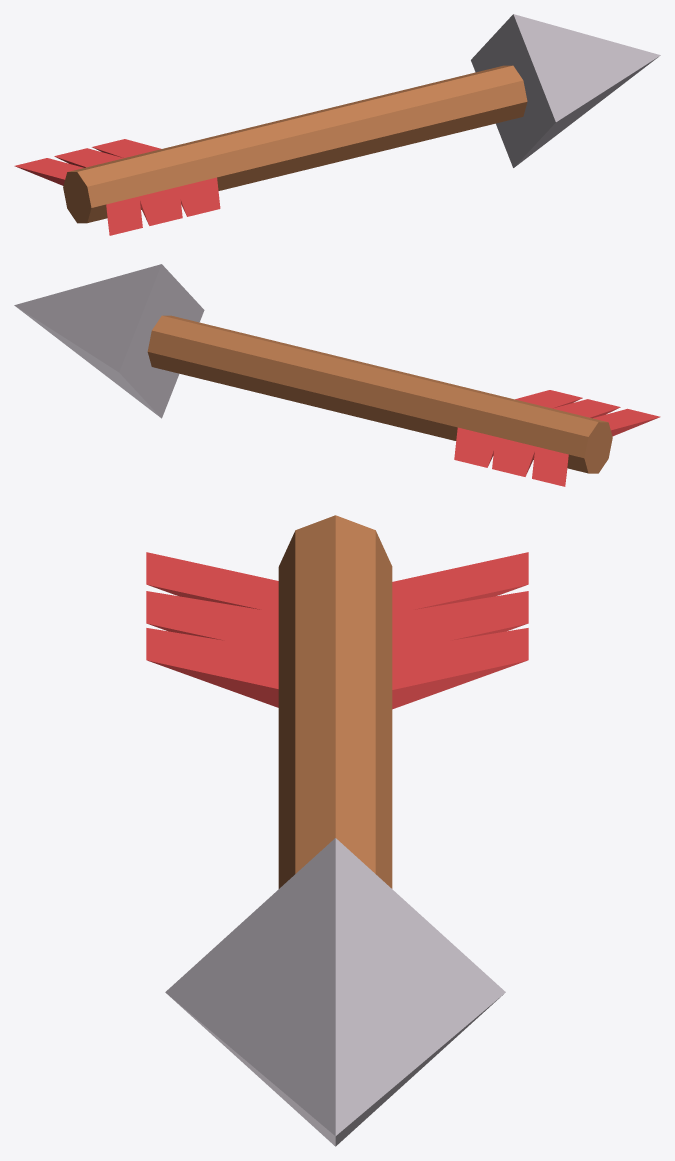
The model's file is Arrow.fbx.
3 views of the same model, one above another, from view 1: azimuth 30°, elevation 25°; view 2: azimuth 150°, elevation 25°; view 3: azimuth 270°, elevation 25° (orthographic). The views are drawn at different scales.
Visible parts, largest first — view 1: Arrow; view 2: Arrow; view 3: Arrow.
Boxes of the visible parts, x1=… form: Arrow: x1=14, y1=14, x2=660, y2=235; Arrow: x1=14, y1=264, x2=660, y2=486; Arrow: x1=146, y1=515, x2=528, y2=1146.
Bounding box in the file's own units: 122 × 30 × 33.65.
